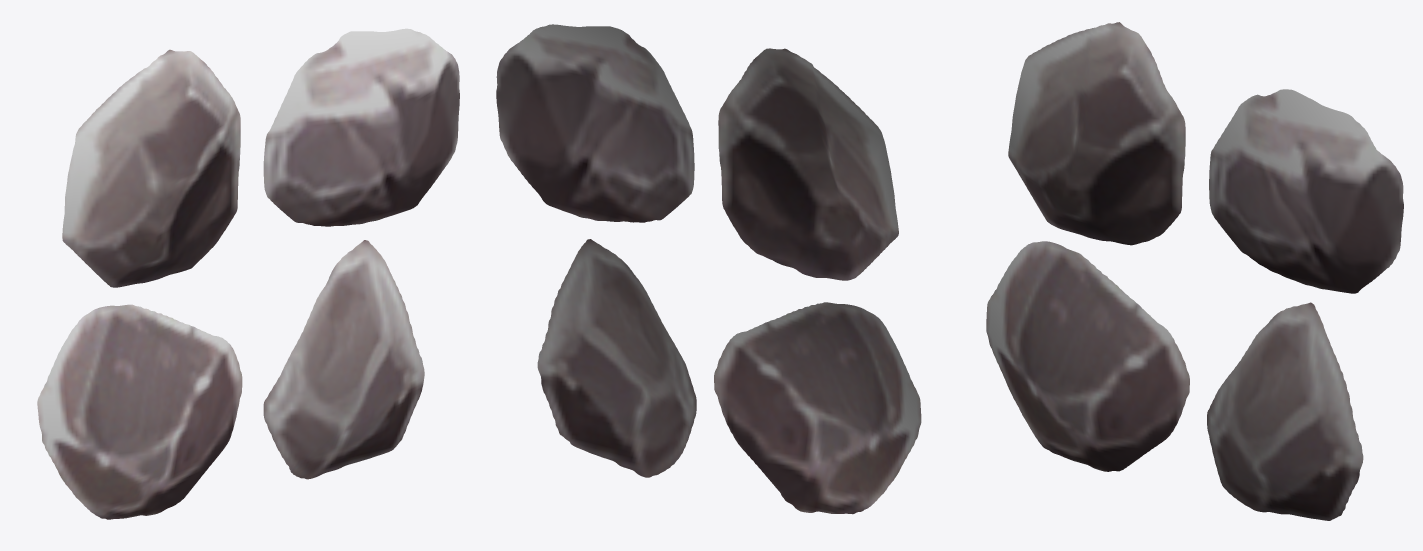
Rendered from Throw Rocks.FBX.
3 renders of one model, left to right at view 1: azimuth 30°, elevation 25°; view 2: azimuth 150°, elevation 25°; view 3: azimuth 330°, elevation 25°, orthographic.
Visible parts, largest first — view 1: Throw Rock 3, Throw Rock 1, Throw Rock 2, Throw Rock 4; view 2: Throw Rock 3, Throw Rock 2, Throw Rock 1, Throw Rock 4; view 3: Throw Rock 3, Throw Rock 1, Throw Rock 2, Throw Rock 4.
Part boxes in pixels (x1,y1,x2,y2): Throw Rock 3: [37, 304, 242, 519]; Throw Rock 1: [62, 49, 240, 287]; Throw Rock 2: [263, 28, 459, 226]; Throw Rock 4: [263, 240, 424, 479]; Throw Rock 3: [714, 302, 921, 514]; Throw Rock 2: [496, 24, 694, 222]; Throw Rock 1: [718, 48, 898, 280]; Throw Rock 4: [537, 239, 696, 477]; Throw Rock 3: [986, 241, 1189, 471]; Throw Rock 1: [1008, 22, 1185, 245]; Throw Rock 2: [1209, 89, 1403, 293]; Throw Rock 4: [1207, 302, 1363, 520].
Size of the model in its own units: 146 by 11.66 by 146.
